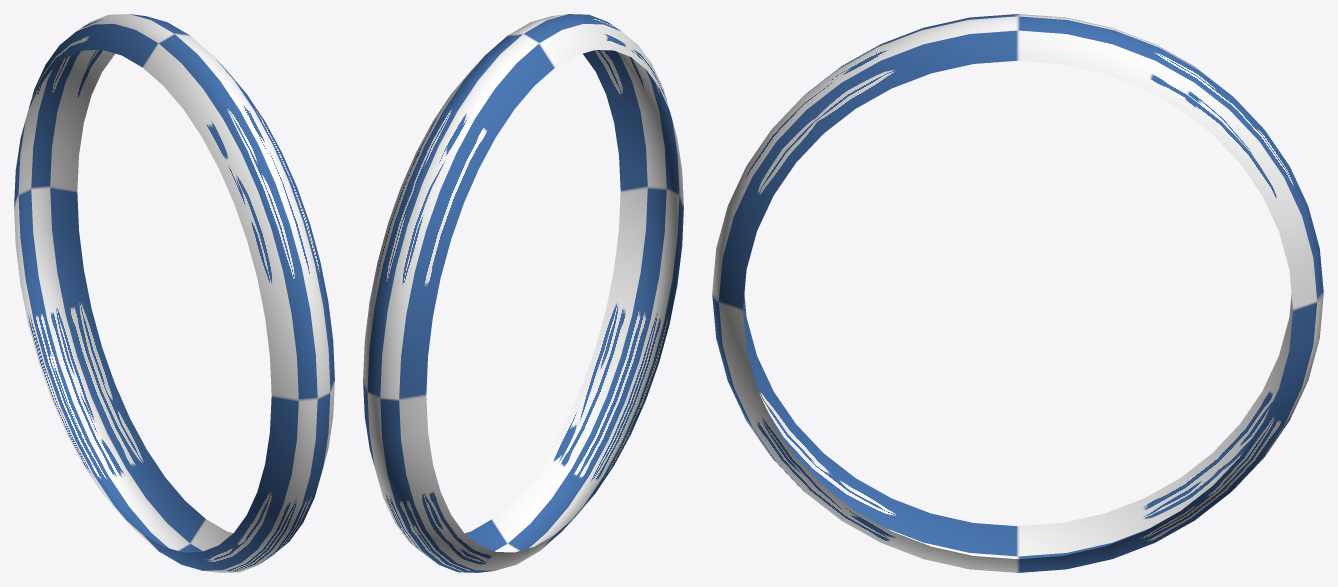
File: Ring6.fbx
3 views of the same model, side by side, from view 1: azimuth 30°, elevation 25°; view 2: azimuth 150°, elevation 25°; view 3: azimuth 270°, elevation 25° (orthographic). The views are drawn at different scales.
Visible parts, largest first — view 1: SM_e_cmn_Ring006; view 2: SM_e_cmn_Ring006; view 3: SM_e_cmn_Ring006.
Part boxes in pixels (x1,y1,x2,y2): SM_e_cmn_Ring006: (14,14,334,572); SM_e_cmn_Ring006: (363,14,683,572); SM_e_cmn_Ring006: (712,14,1323,572).
Size of the model in its own units: 11.09 by 86.89 by 86.89.
